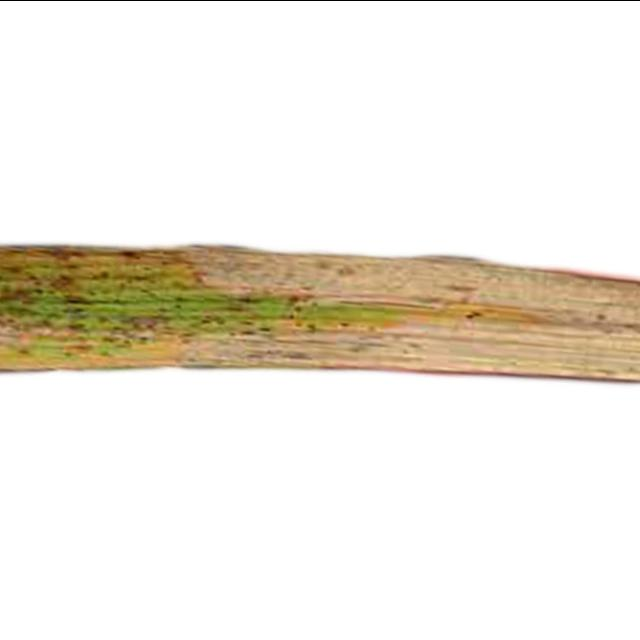Leaf scald: (0, 186, 640, 492)
